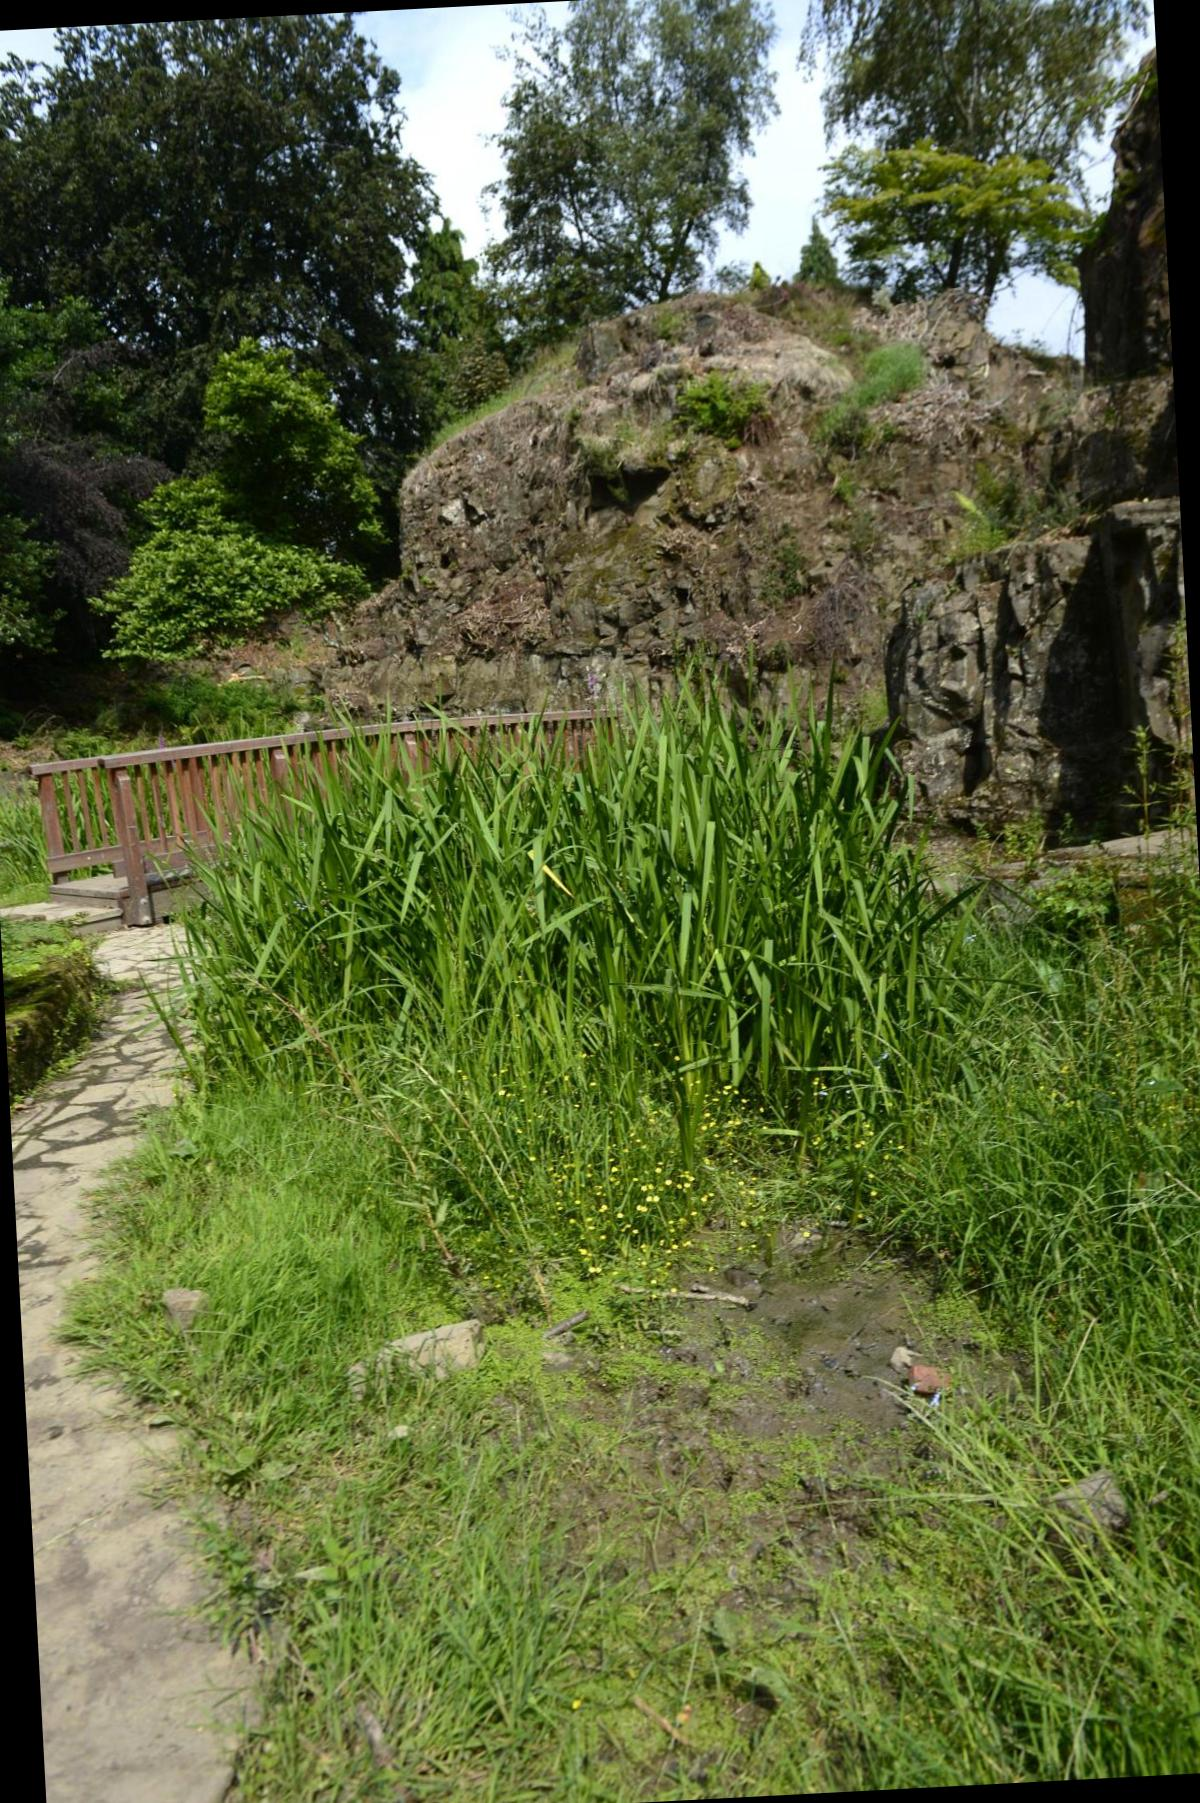overgrown grass: (217, 702, 940, 1222), (821, 873, 1200, 1790), (125, 1084, 469, 1495)
